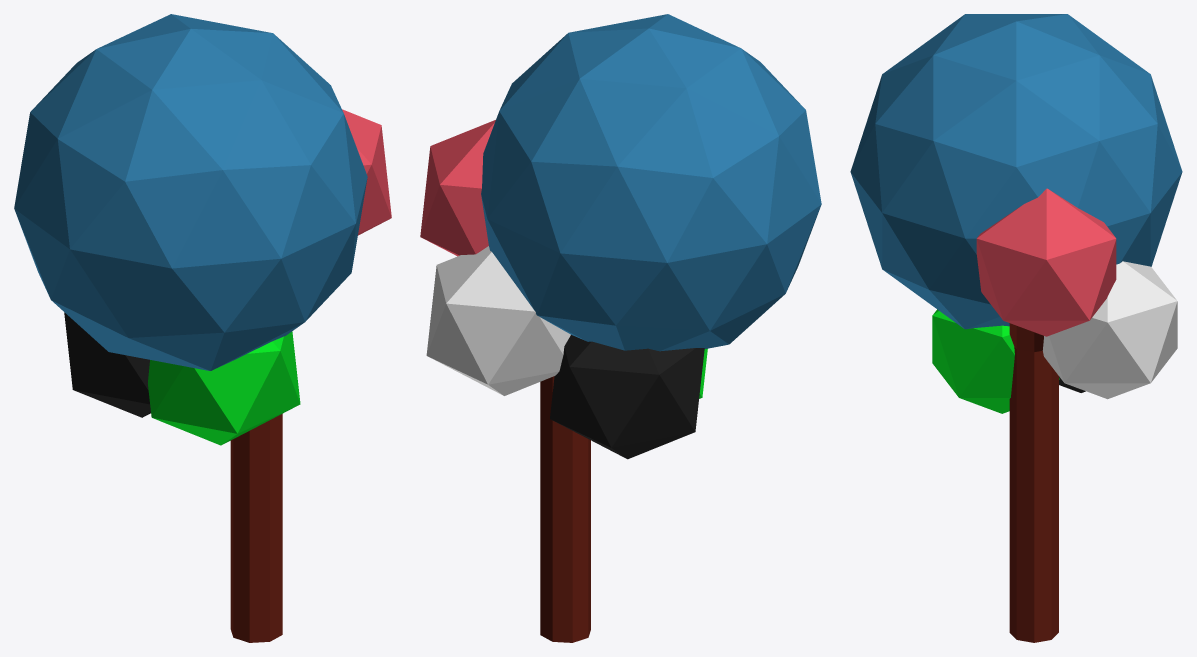
File: tree.fbx
The picture shows the model from 3 angles, left to right: view 1: azimuth 30°, elevation 25°; view 2: azimuth 150°, elevation 25°; view 3: azimuth 270°, elevation 25°; orthographic projection. The views are drawn at different scales.
Parts seen in each view (by area): view 1: Icosphere.001, Cylinder, Icosphere.002, Icosphere.004, Icosphere; view 2: Icosphere.001, Icosphere.004, Icosphere.003, Cylinder, Icosphere; view 3: Icosphere.001, Icosphere, Cylinder, Icosphere.003, Icosphere.002.
Boxes of the visible parts, <box> form: Icosphere.001: <box>14,14,367,370</box>; Cylinder: <box>230,414,282,642</box>; Icosphere.002: <box>148,331,300,445</box>; Icosphere.004: <box>64,312,150,417</box>; Icosphere: <box>342,109,391,235</box>; Icosphere.001: <box>481,14,821,351</box>; Icosphere.004: <box>550,335,704,459</box>; Icosphere.003: <box>426,246,570,395</box>; Cylinder: <box>540,376,590,642</box>; Icosphere: <box>420,120,495,256</box>; Icosphere.001: <box>850,14,1182,329</box>; Icosphere: <box>976,188,1116,336</box>; Cylinder: <box>1009,323,1058,642</box>; Icosphere.003: <box>1042,261,1177,399</box>; Icosphere.002: <box>932,309,1059,413</box>.
Bounding box in the file's own units: 459 × 775 × 404.
